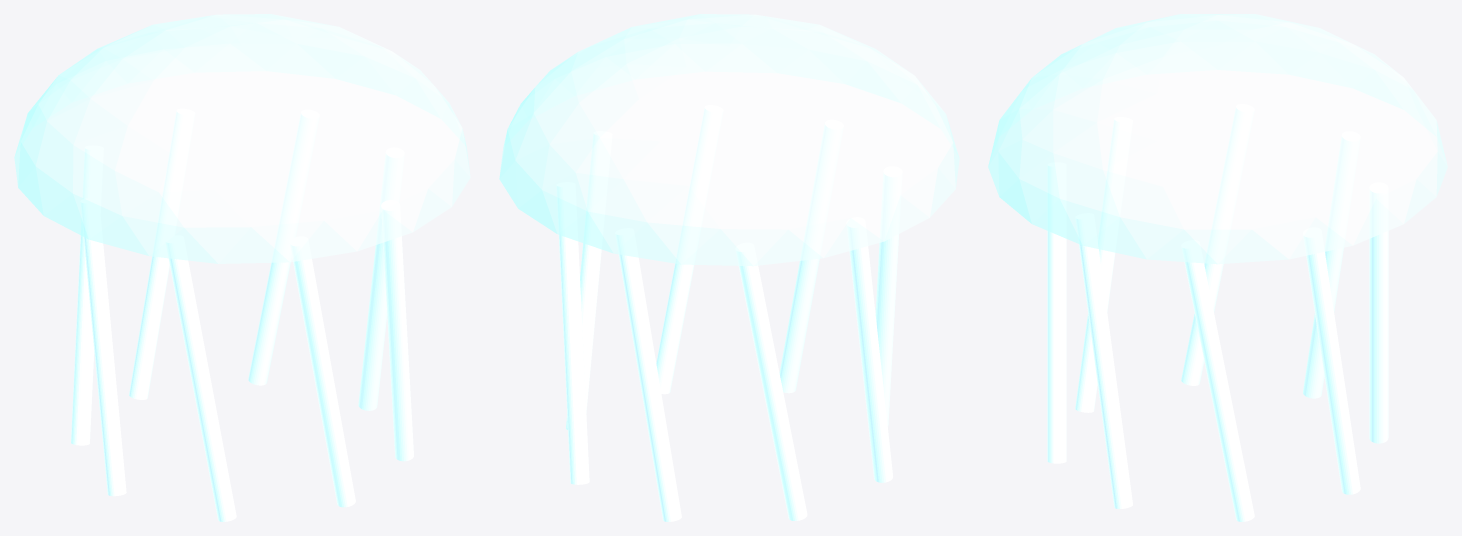
File: jellyfish.glb
3 renders of one model, left to right at view 1: azimuth 30°, elevation 25°; view 2: azimuth 150°, elevation 25°; view 3: azimuth 270°, elevation 25°, orthographic.
Visible parts, largest first — view 1: Bell, Tentacle_4, Tentacle_5, Tentacle_2, Tentacle_6, Tentacle_1, Tentacle_7, Tentacle_3, Tentacle_0; view 2: Bell, Tentacle_1, Tentacle_2, Tentacle_3, Tentacle_7, Tentacle_6, Tentacle_4, Tentacle_0, Tentacle_5; view 3: Bell, Tentacle_6, Tentacle_7, Tentacle_0, Tentacle_1, Tentacle_2, Tentacle_4, Tentacle_5, Tentacle_3.
Boxes of the visible parts, <box> form: Bell: <box>14,14,470,263</box>; Tentacle_4: <box>80,198,126,496</box>; Tentacle_5: <box>165,235,236,521</box>; Tentacle_2: <box>129,109,194,399</box>; Tentacle_6: <box>290,236,355,507</box>; Tentacle_1: <box>248,110,319,385</box>; Tentacle_7: <box>381,200,413,461</box>; Tentacle_3: <box>71,146,103,445</box>; Tentacle_0: <box>358,147,404,410</box>; Bell: <box>499,14,959,266</box>; Tentacle_1: <box>556,182,589,484</box>; Tentacle_2: <box>615,228,681,521</box>; Tentacle_3: <box>735,243,807,520</box>; Tentacle_7: <box>656,105,723,394</box>; Tentacle_6: <box>779,120,843,393</box>; Tentacle_4: <box>846,217,892,482</box>; Tentacle_0: <box>566,131,612,429</box>; Tentacle_5: <box>875,166,902,426</box>; Bell: <box>988,14,1447,264</box>; Tentacle_6: <box>1047,162,1066,463</box>; Tentacle_7: <box>1075,213,1132,508</box>; Tentacle_0: <box>1181,240,1254,521</box>; Tentacle_1: <box>1303,227,1360,494</box>; Tentacle_2: <box>1369,182,1388,443</box>; Tentacle_4: <box>1181,104,1254,385</box>; Tentacle_5: <box>1075,117,1132,412</box>; Tentacle_3: <box>1303,131,1360,398</box>.
Bounding box in the file's own units: 1.2 × 1.17 × 1.2.
